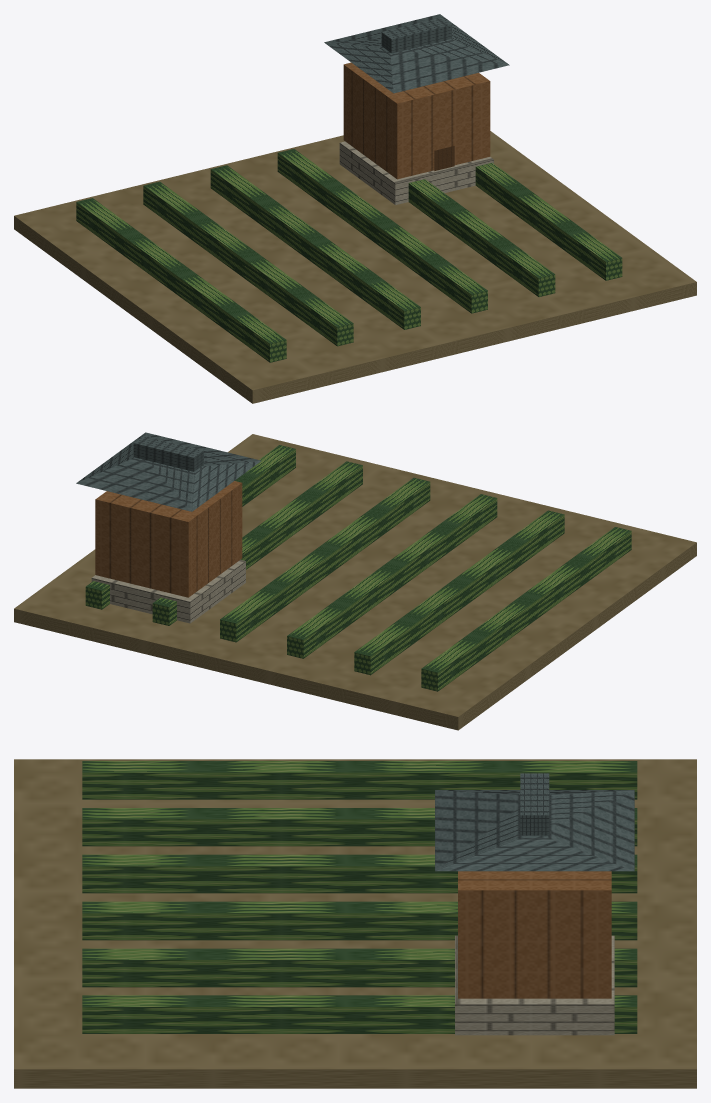
File: domestic-FARM-3-lod2.glb
3 renders of one model, top to bottom at view 1: azimuth 30°, elevation 25°; view 2: azimuth 150°, elevation 25°; view 3: azimuth 270°, elevation 25°, orthographic. The views are drawn at different scales.
Size of the model in its own units: 0.86 by 0.292 by 0.8.
1 material, 1 textured.
